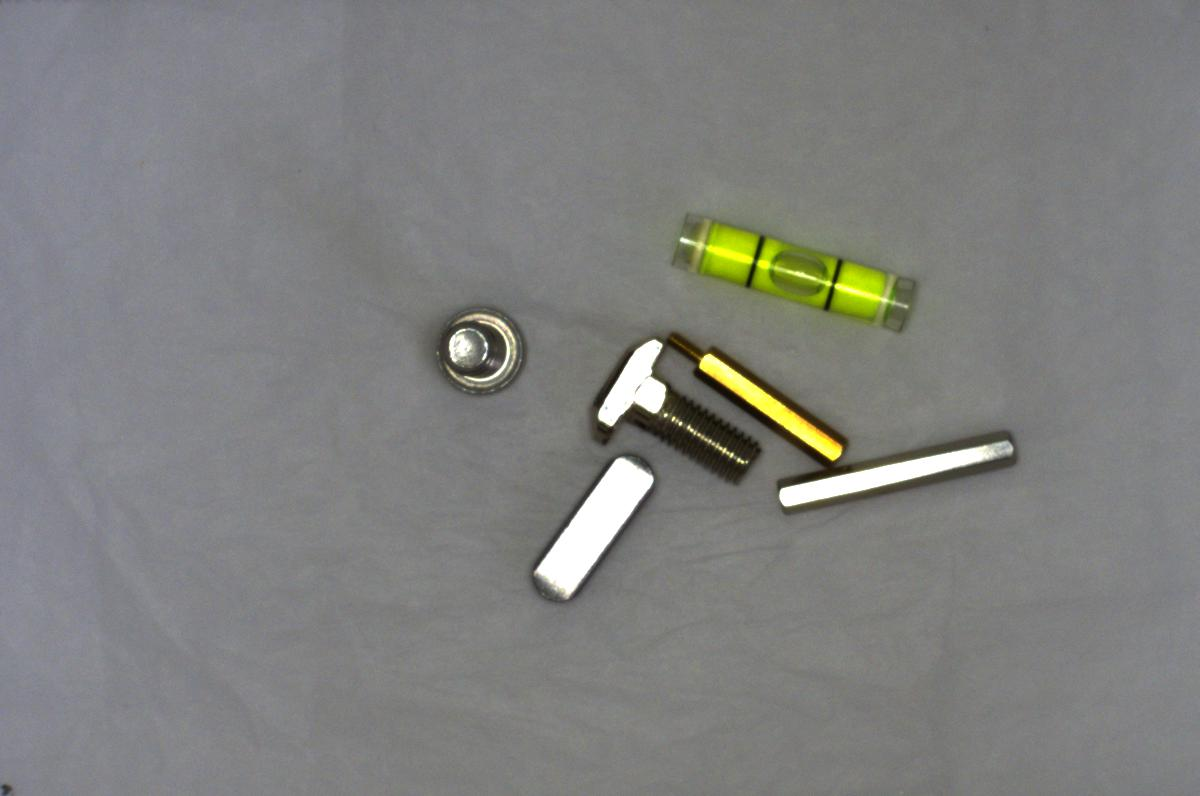Double hexagonal column: (775, 419, 1026, 524)
Hexagon pillar: (665, 323, 847, 468)
Hexagon screw: (426, 290, 535, 405)
Horizontal bubble: (666, 200, 928, 336)
Keybar: (511, 441, 666, 606)
T-shaped screw: (583, 328, 762, 486)
